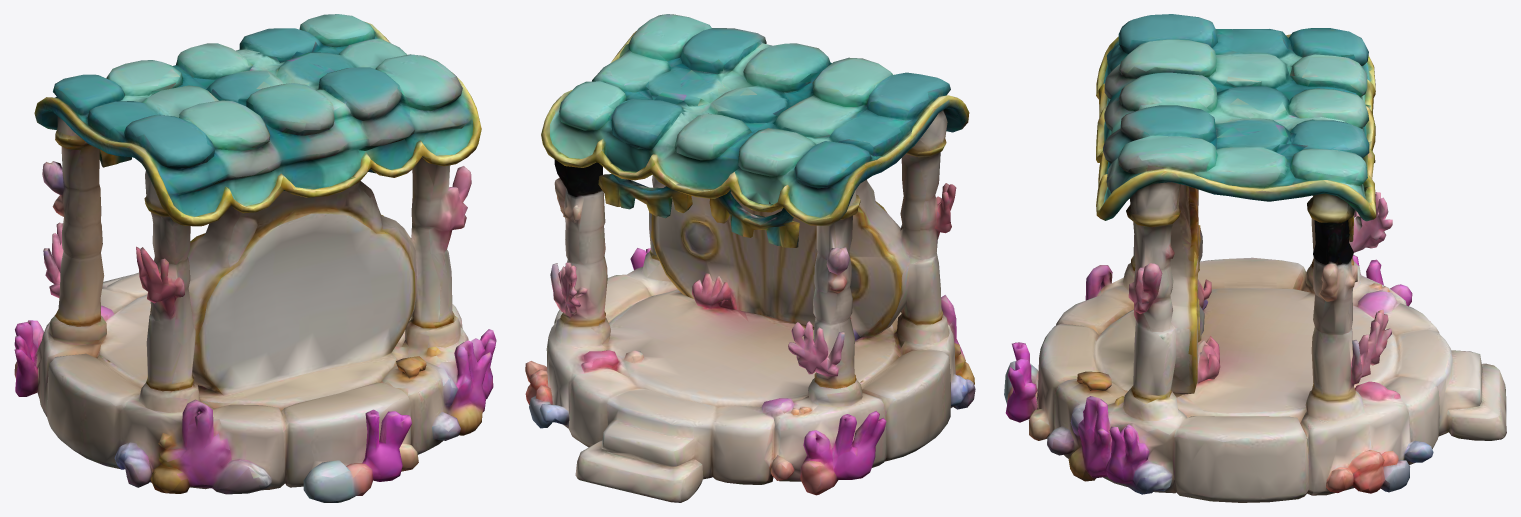
Rendered from stage.glb.
3 renders of one model, left to right at view 1: azimuth 30°, elevation 25°; view 2: azimuth 150°, elevation 25°; view 3: azimuth 270°, elevation 25°, orthographic. The views are drawn at different scales.
Parts seen in each view (by area): view 1: low; view 2: low; view 3: low.
Boxes of the visible parts, left/top/right/bottom form: low: left=14, top=14, right=496, bottom=502; low: left=525, top=14, right=975, bottom=502; low: left=1004, top=14, right=1506, bottom=502.
Bounding box in the file's own units: 2.33 × 2 × 2.71.
Materials: 1 (1 with a texture image).
